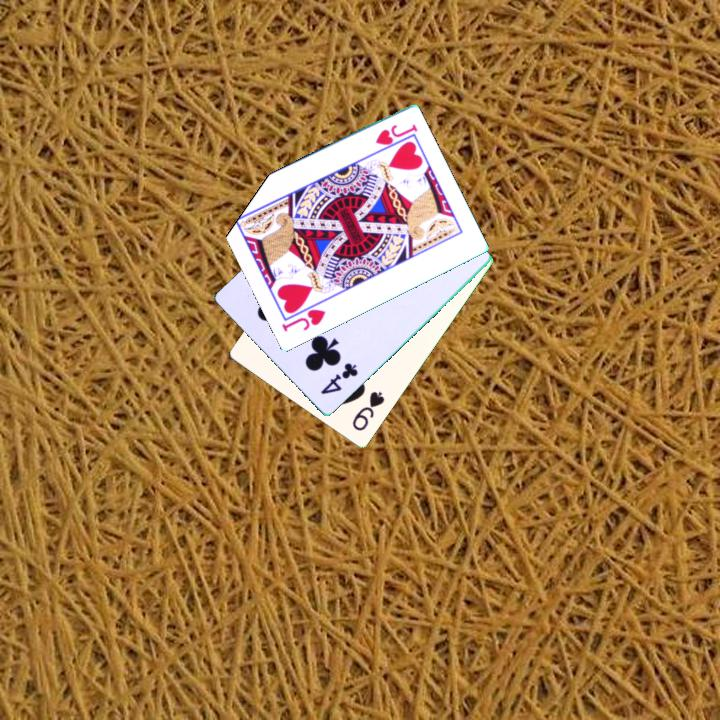4c: (317, 360, 361, 398)
9s: (349, 388, 388, 434)
Jh: (278, 306, 328, 335), (372, 121, 420, 149)
